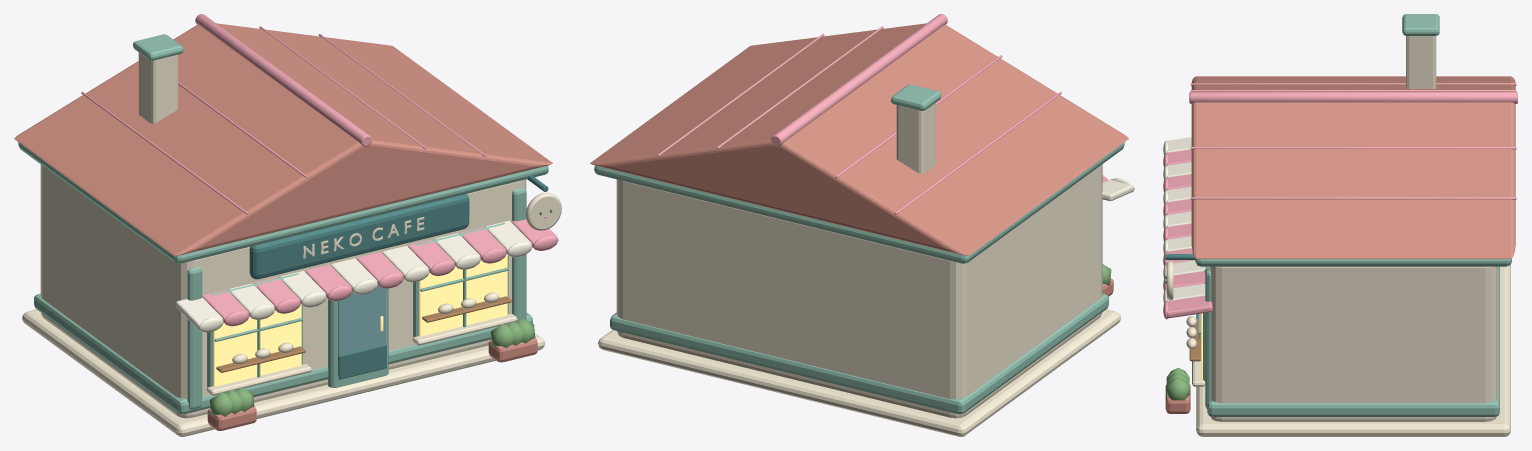
The model's file is cafe.glb.
3 views of the same model, side by side, from view 1: azimuth 30°, elevation 25°; view 2: azimuth 150°, elevation 25°; view 3: azimuth 270°, elevation 25° (orthographic).
Parts seen in each view (by area): view 1: cafe; view 2: cafe; view 3: cafe.
Part boxes in pixels (left/top/right/bottom): cafe: left=14, top=14, right=561, bottom=436; cafe: left=590, top=14, right=1134, bottom=436; cafe: left=1163, top=14, right=1517, bottom=436.
Bounding box in the file's own units: 9.58 × 7.02 × 7.88.
